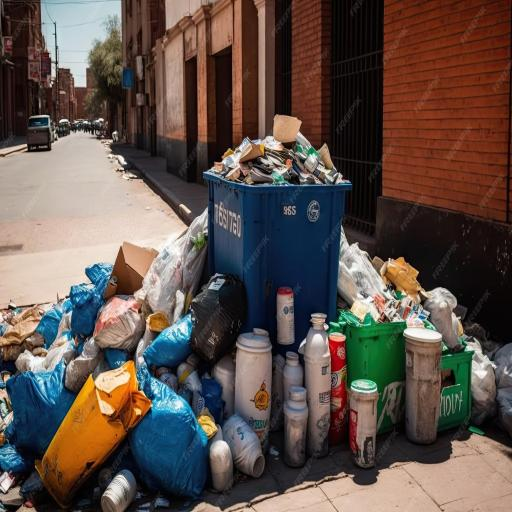Contenedor_Desbordado: (7, 73, 512, 506), (2, 388, 117, 508)
